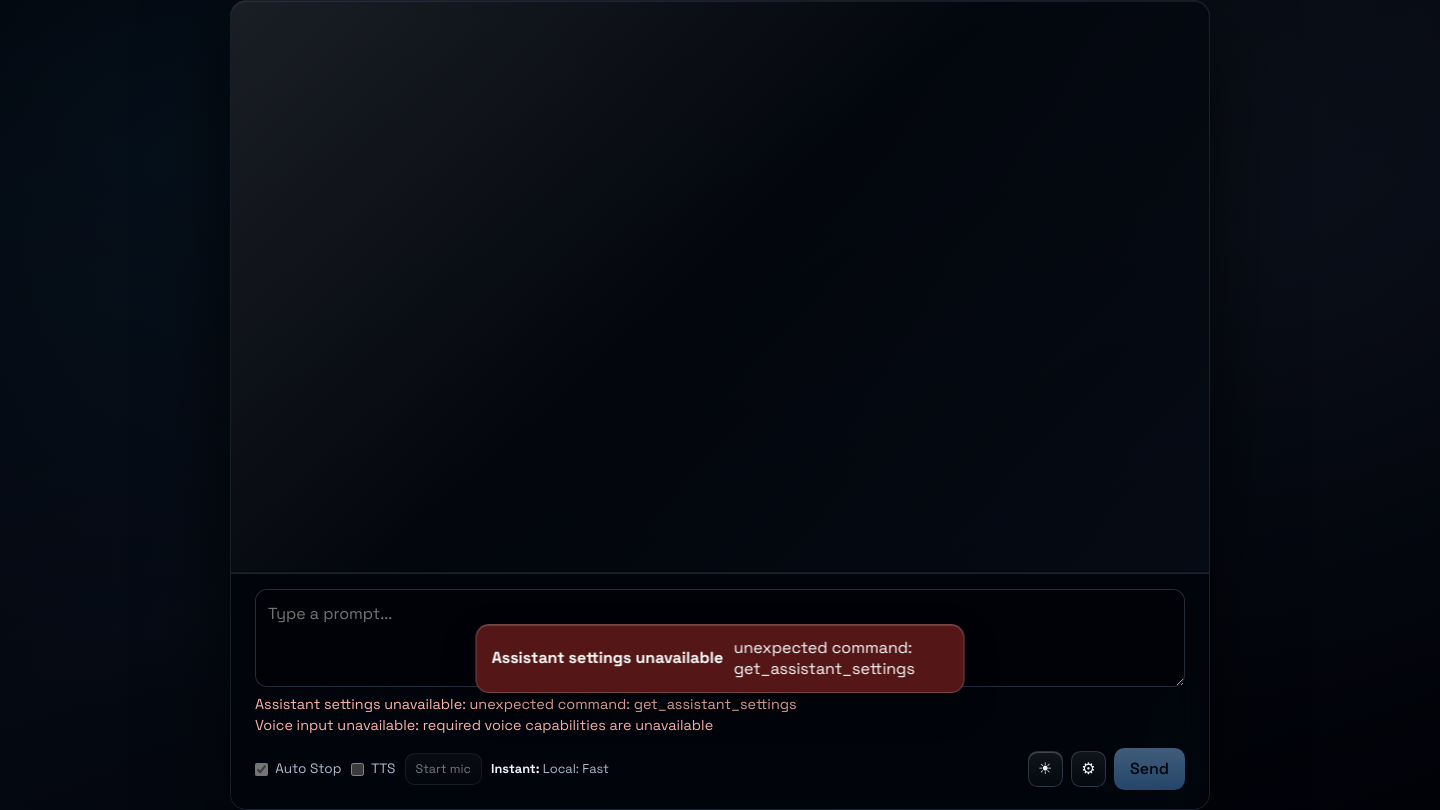
Test: App › opens settings and live-updates persisted app text size
Step 1. Click the button "⚙" → click(1088, 769), box x1=1071 y1=751 x2=1106 y2=787
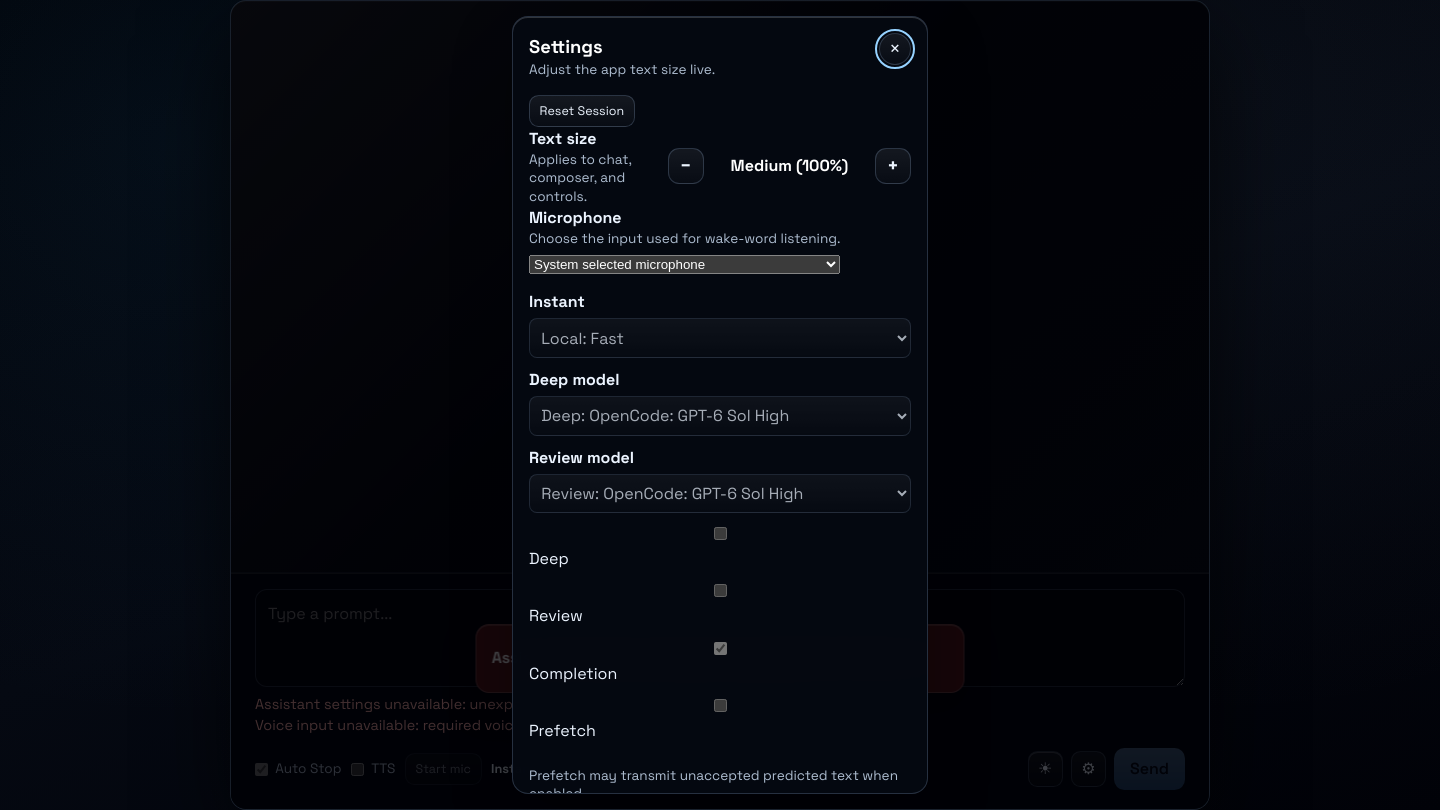
expect the text "text size" is shown: met, box x1=529 y1=61 x2=715 y2=78
expect the text "Medium (100%)" is shown: met, box x1=731 y1=155 x2=848 y2=176
Step 2. Click the button "+" → click(893, 166), box x1=875 y1=148 x2=911 y2=184
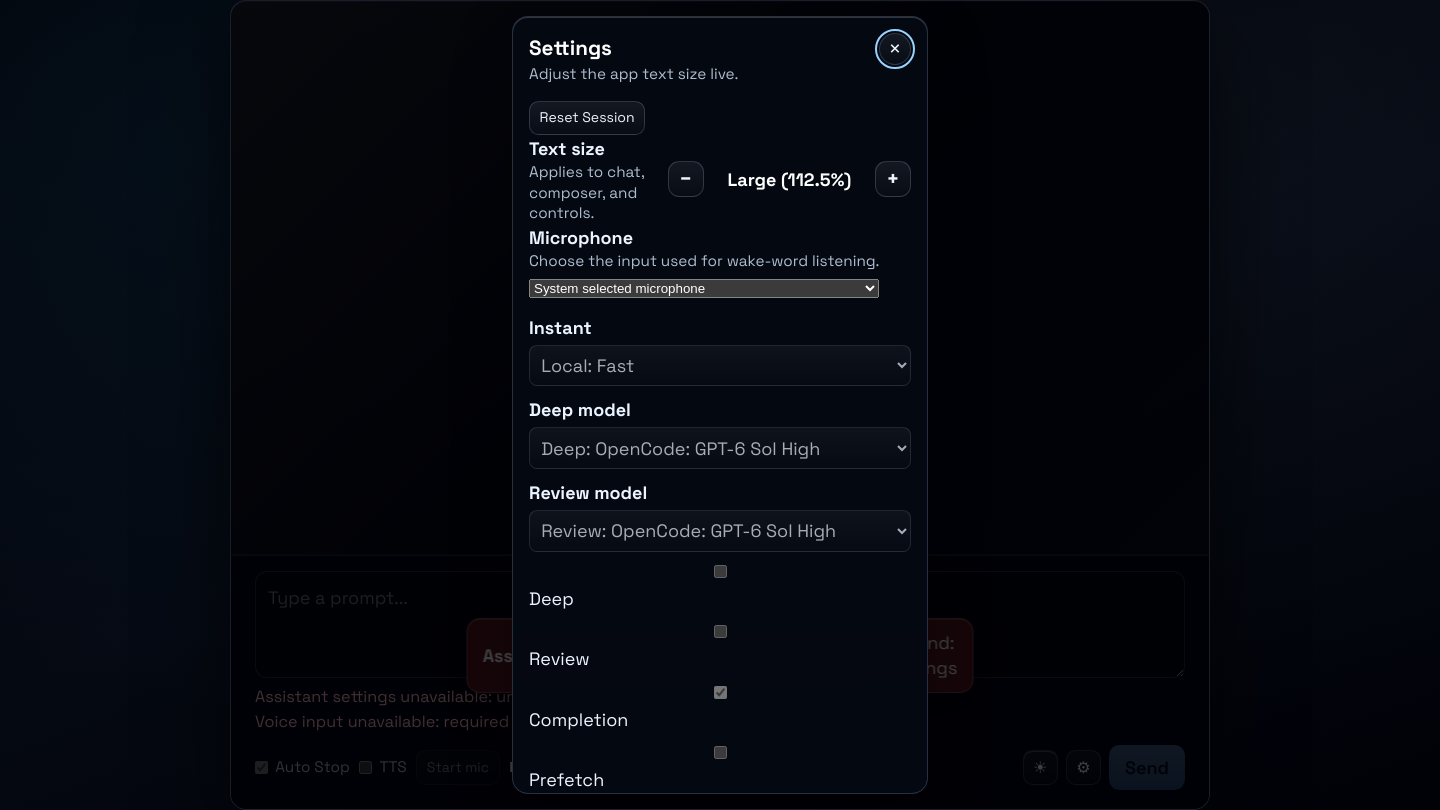
expect the text "Large (112.5%)" is shown: met, box x1=728 y1=168 x2=851 y2=191
Step 3. Click the button "−" → click(686, 179), box x1=668 y1=161 x2=704 y2=197
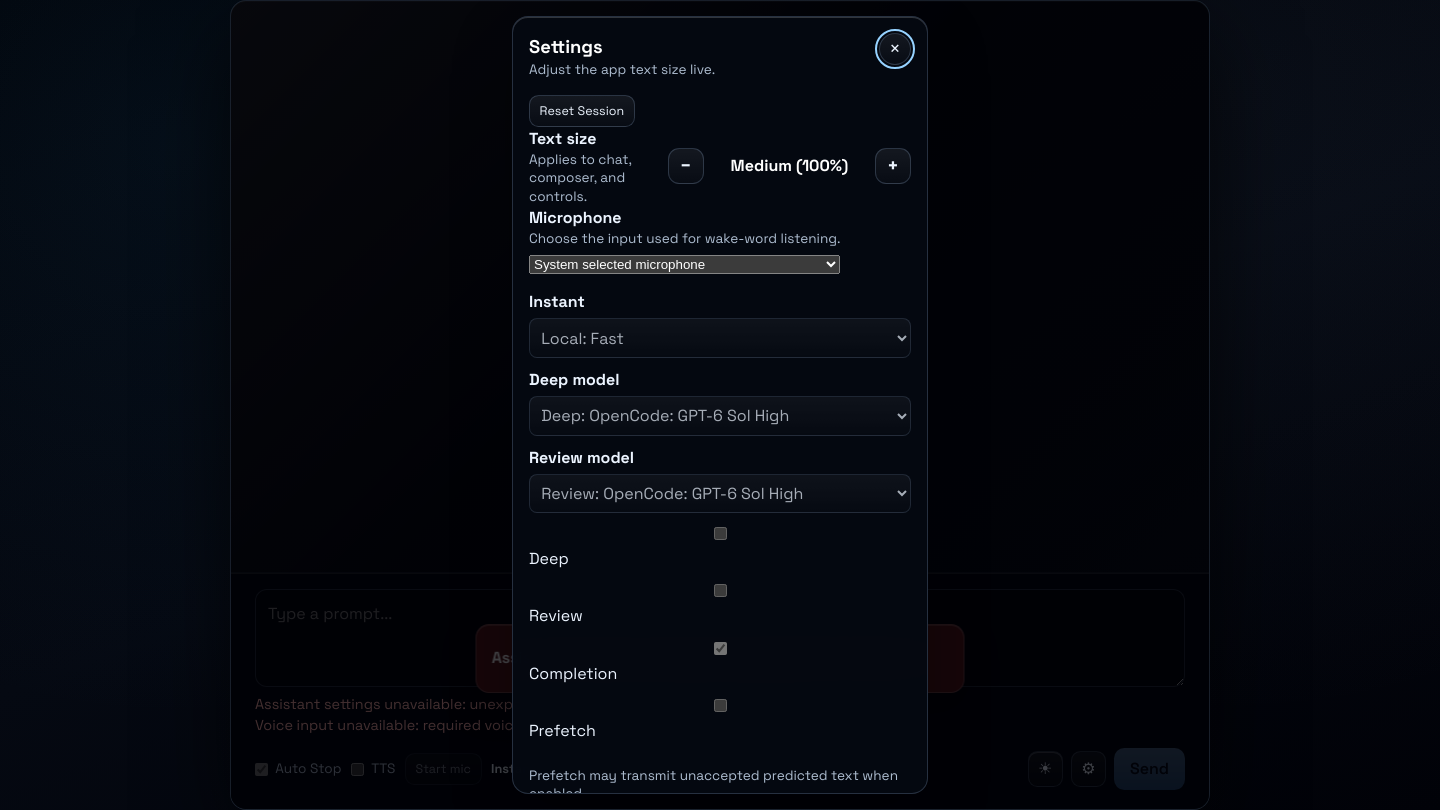
expect the text "Medium (100%)" is shown: met, box x1=731 y1=155 x2=848 y2=176
